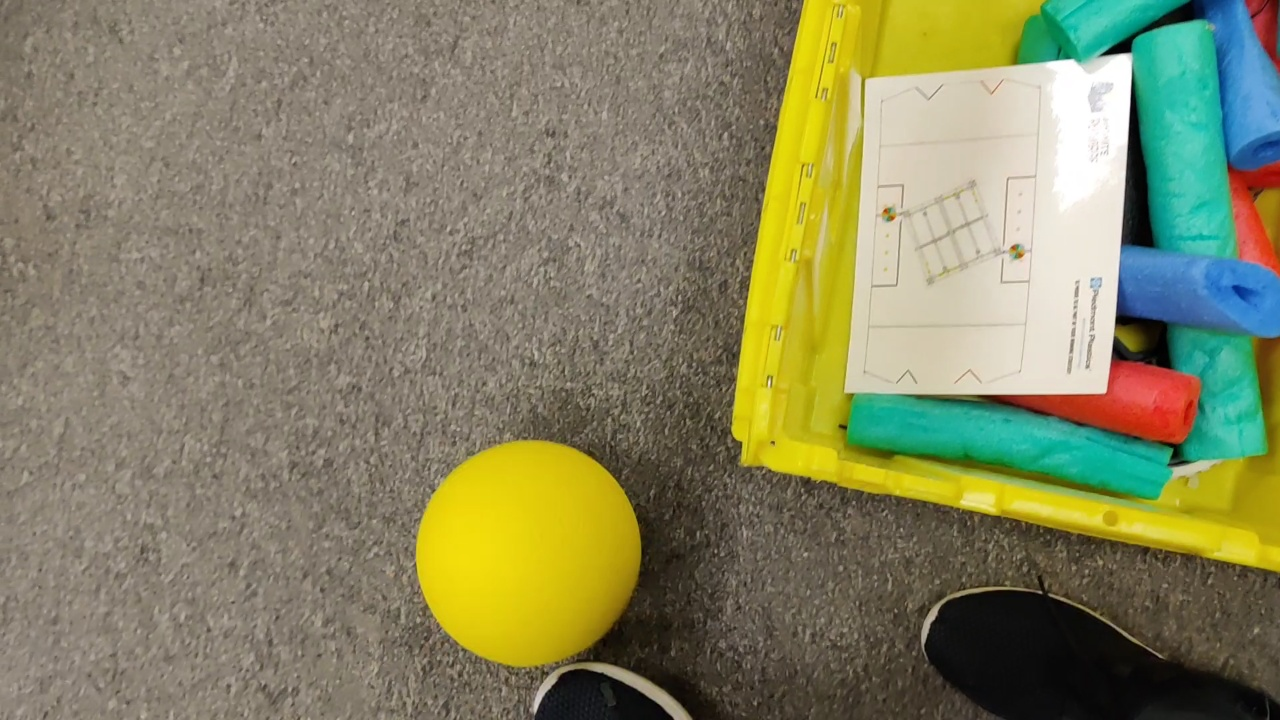Ball: (418, 440, 651, 655)
